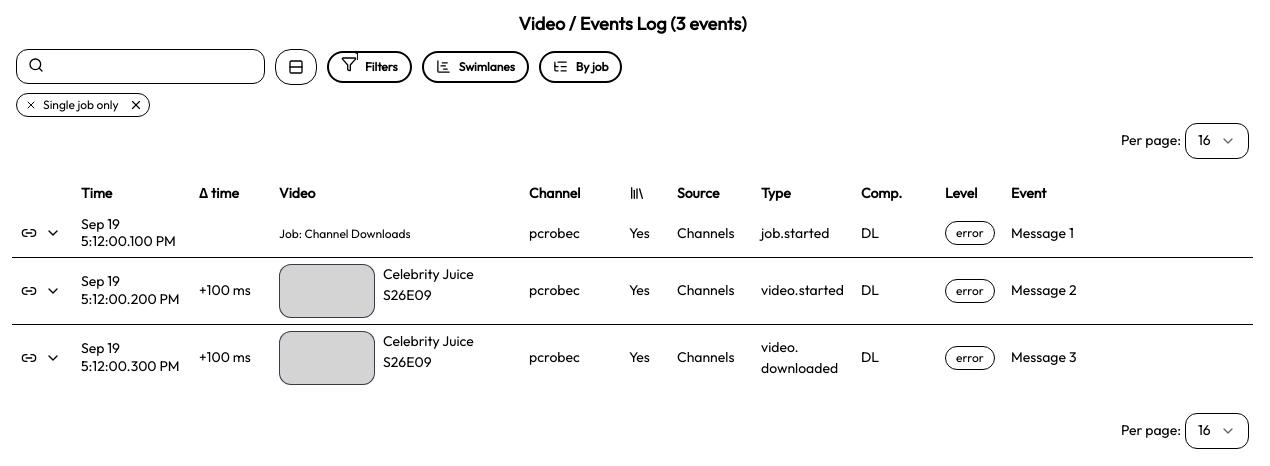
Test: EventLog page › optional log views › offers Timeline once By job is on, and remembers it
Click the button "By job" at (581, 67), box [539,51,622,83]
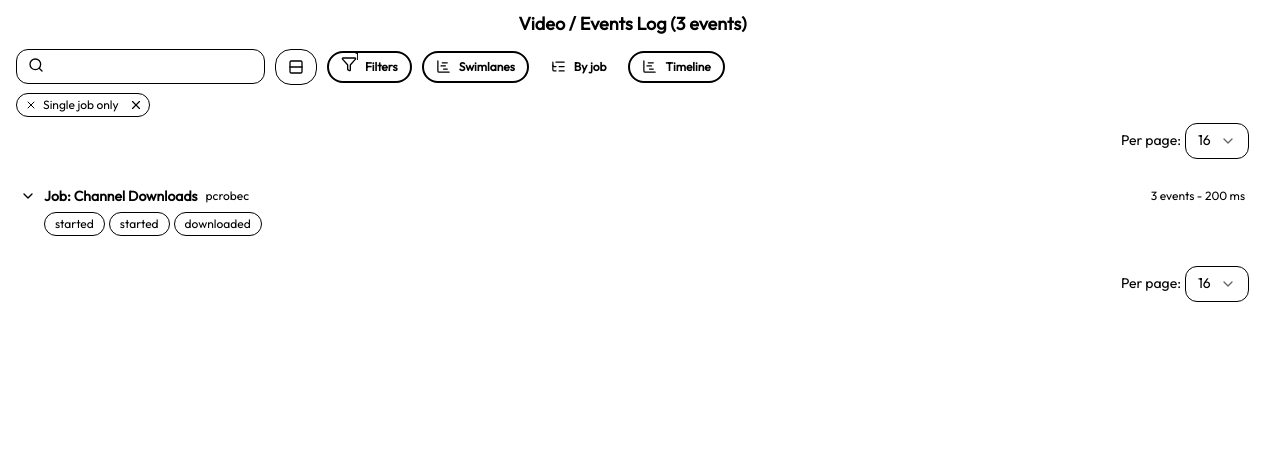
Click the button "Timeline" at (677, 67), box [628,51,725,83]
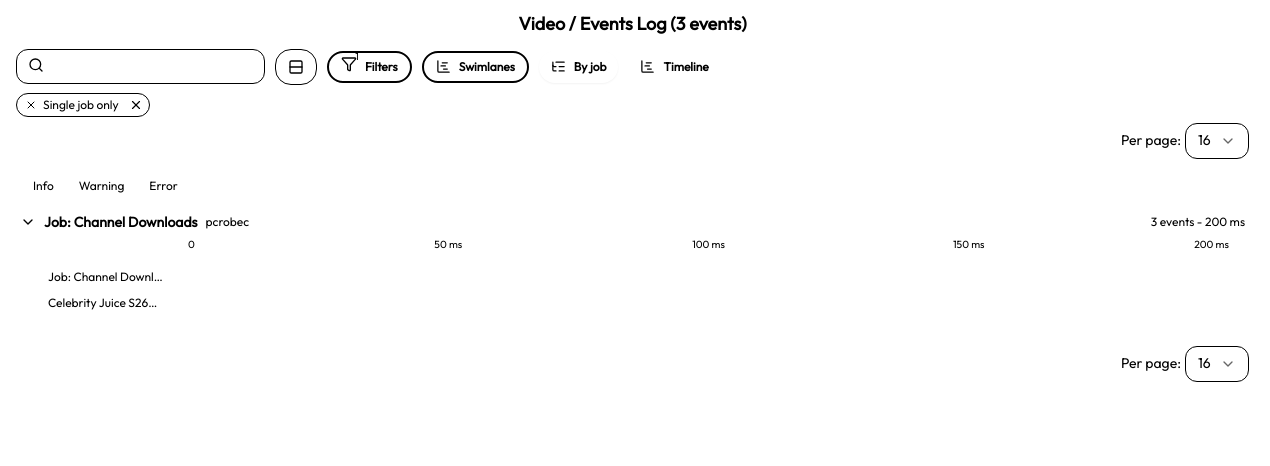
Expected: the element with test id "event-swimlane" showing "Job: Channel Downloads" is shown, [48,268,194,284]
